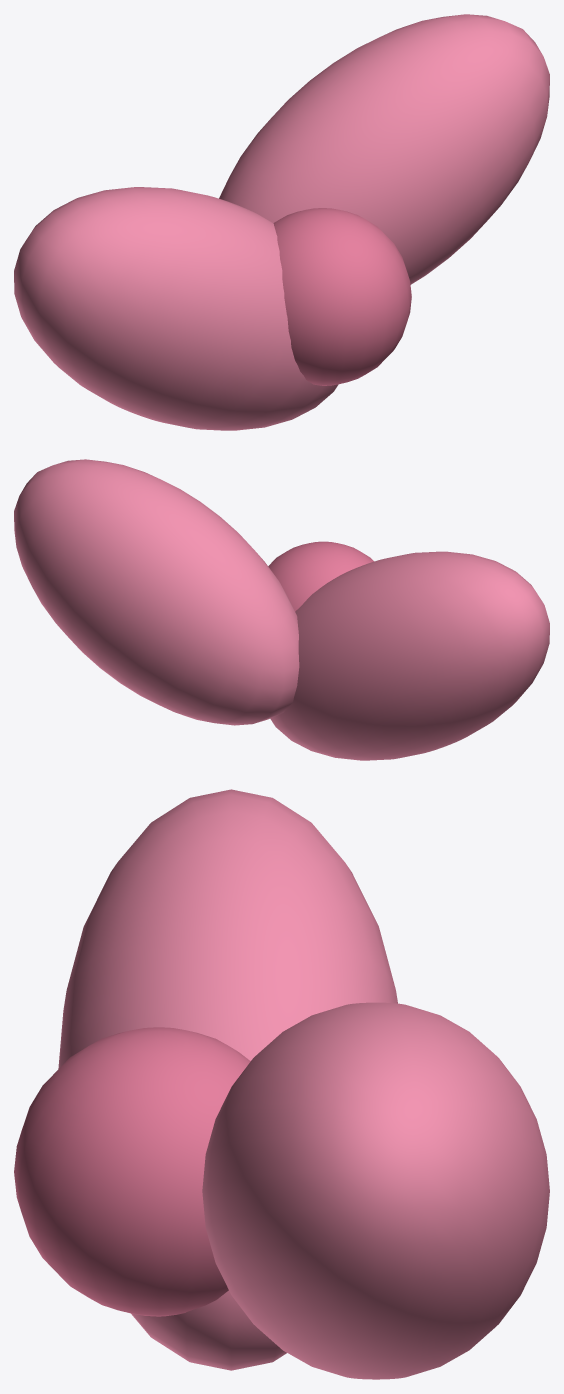
The model's file is ribbon.glb.
The picture shows the model from 3 angles, top to bottom: view 1: azimuth 30°, elevation 25°; view 2: azimuth 150°, elevation 25°; view 3: azimuth 270°, elevation 25°; orthographic projection. The views are drawn at different scales.
Visible parts, largest first — view 1: Item_ribbon; view 2: Item_ribbon; view 3: Item_ribbon.
Part boxes in pixels (box(x1,y1,x2,y2)): Item_ribbon: box(14, 14, 549, 430); Item_ribbon: box(14, 459, 549, 760); Item_ribbon: box(14, 789, 549, 1379).
Bounding box in the file's own units: 0.7307 × 0.3773 × 0.37.
